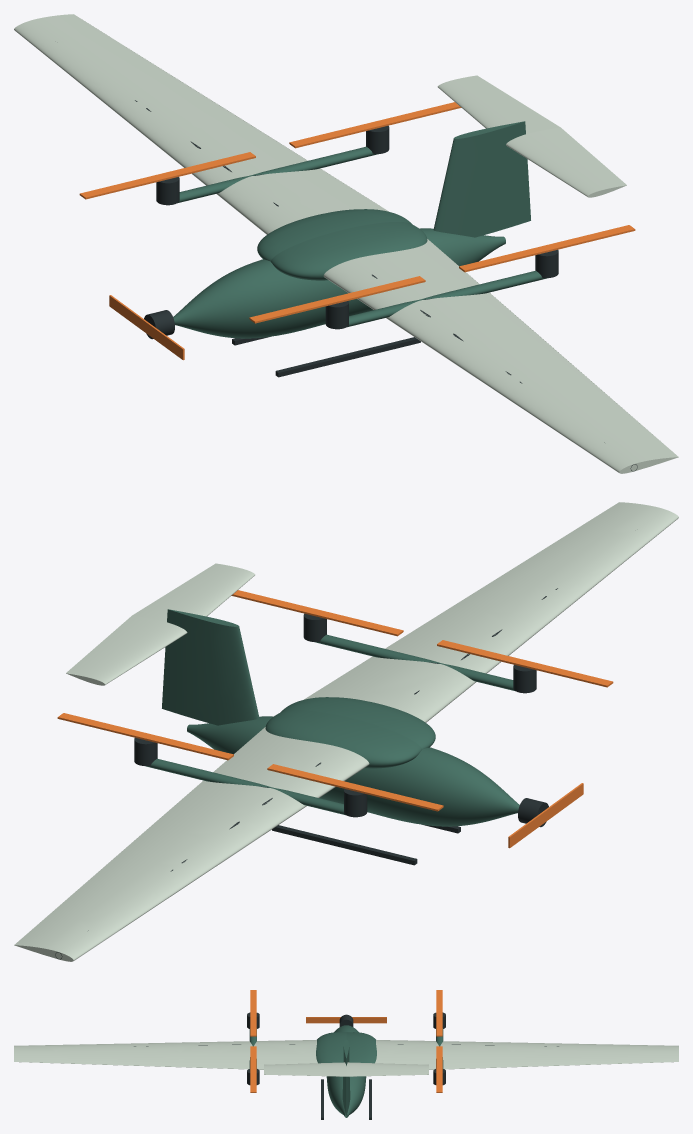
Rendered from control-08-model.glb.
The picture shows the model from 3 angles, top to bottom: view 1: azimuth 30°, elevation 25°; view 2: azimuth 150°, elevation 25°; view 3: azimuth 270°, elevation 25°; orthographic projection. The views are drawn at different scales.
Visible parts, largest first — view 1: wing-1, wing1, fuselage, fin, root_fairing-1, tail-1, tail1, root_fairing1, boom_fairing-1, boom_fairing1, prop_-1_200.0, prop_-1_700.0 (+4 smaller); view 2: wing1, wing-1, fuselage, fin, root_fairing1, tail1, tail-1, root_fairing-1, boom_fairing1, boom_fairing-1, prop_1_200.0, prop_-1_200.0 (+4 smaller); view 3: wing-1, wing1, fuselage, tail1, tail-1, root_fairing-1, root_fairing1, cruise_prop, fin, prop_-1_200.0, prop_-1_700.0, prop_1_200.0 (+1 smaller).
Boxes of the visible parts, x1,y1,x2,y2 form: wing-1: (323, 239, 678, 473); wing1: (14, 14, 389, 234); fuselage: (173, 228, 505, 338); fin: (433, 121, 530, 237); root_fairing-1: (271, 222, 427, 280); tail-1: (506, 127, 626, 197); tail1: (437, 75, 560, 133); root_fairing1: (257, 209, 412, 261); boom_fairing-1: (347, 270, 548, 327); boom_fairing1: (177, 146, 378, 203); prop_-1_200.0: (249, 276, 425, 323); prop_-1_700.0: (459, 225, 635, 272); wing1: (14, 727, 369, 961); wing-1: (303, 502, 678, 722); fuselage: (187, 716, 519, 826); fin: (162, 609, 259, 725); root_fairing1: (265, 710, 421, 768); tail1: (66, 615, 187, 685); tail-1: (132, 563, 255, 621); root_fairing-1: (280, 697, 435, 749); boom_fairing1: (145, 758, 345, 815); boom_fairing-1: (314, 634, 515, 691); prop_1_200.0: (267, 764, 443, 811); prop_-1_200.0: (437, 640, 613, 687); wing-1: (14, 1040, 317, 1069); wing1: (375, 1040, 678, 1069); fuselage: (326, 1025, 366, 1117); tail1: (346, 1062, 428, 1076); tail-1: (264, 1062, 346, 1076); root_fairing-1: (316, 1032, 346, 1063); root_fairing1: (346, 1032, 376, 1063); cruise_prop: (306, 1017, 386, 1023); fin: (342, 1040, 350, 1115); prop_-1_200.0: (250, 990, 256, 1036); prop_-1_700.0: (250, 1046, 256, 1092); prop_1_200.0: (436, 990, 442, 1036).
Bounding box in the file's own units: 989 × 395 × 2500.
